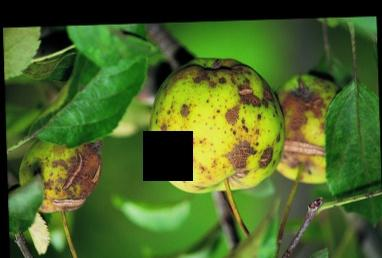rotten apple: (142, 54, 284, 193), (274, 70, 356, 188), (11, 131, 107, 213)
